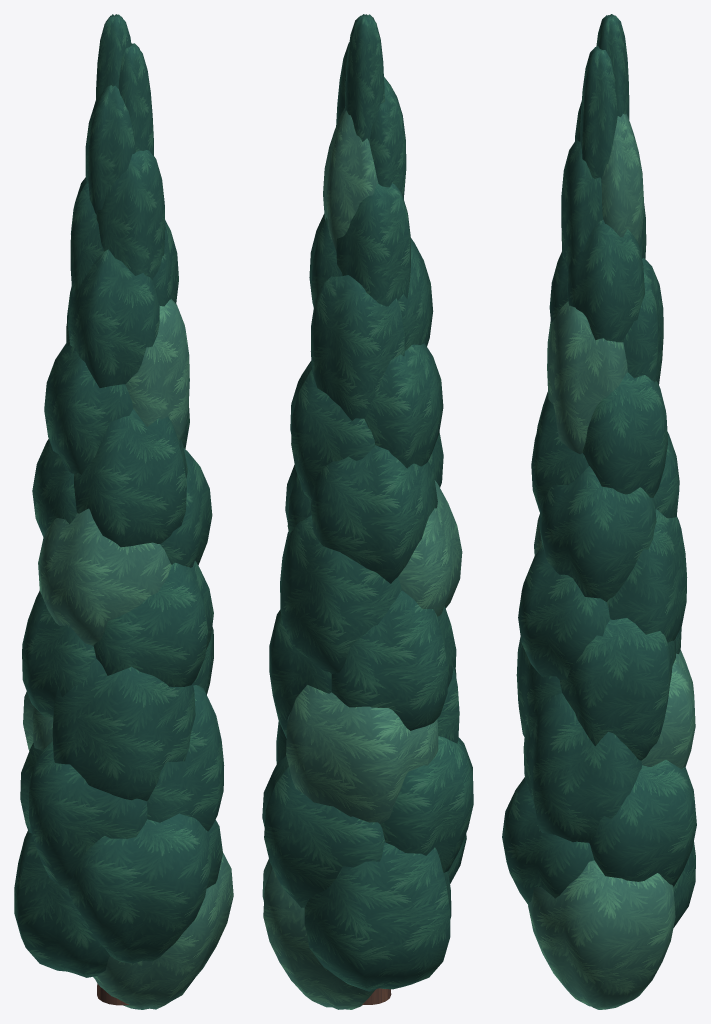
File: tree_2.glb
The picture shows the model from 3 angles, left to right: view 1: azimuth 30°, elevation 25°; view 2: azimuth 150°, elevation 25°; view 3: azimuth 270°, elevation 25°; orthographic projection. The views are drawn at different scales.
Visible parts, largest first — view 1: tree_2; view 2: tree_2; view 3: tree_2.
Boxes of the visible parts, x1,y1,x2,y2 form: tree_2: [14, 14, 233, 1009]; tree_2: [262, 14, 473, 1009]; tree_2: [502, 14, 696, 1009].
Size of the model in its own units: 1.58 by 7.69 by 1.4.
1 material, 1 textured.
